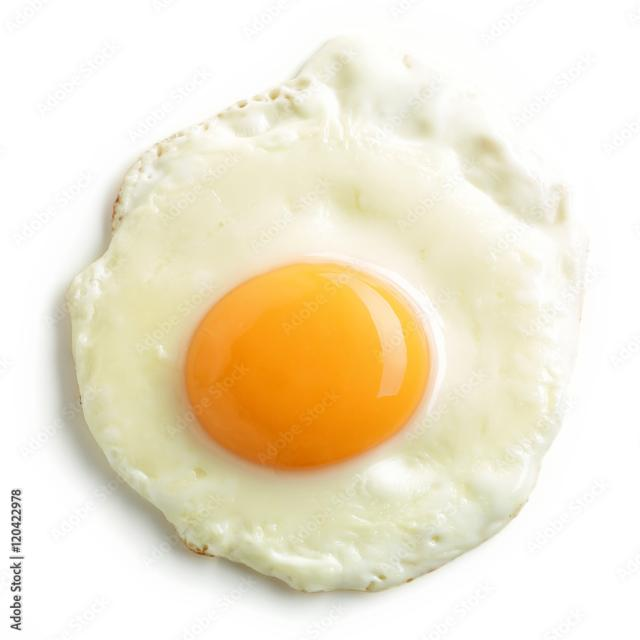Egg: (67, 36, 585, 591)
